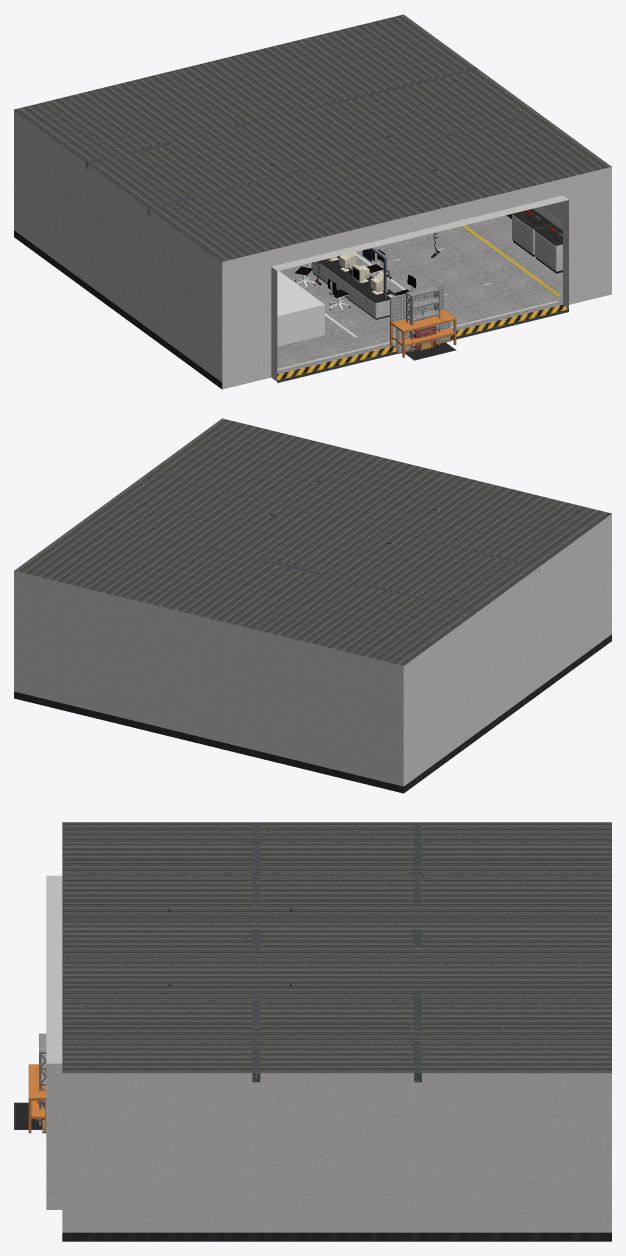
Rendered from pitbox.glb.
3 views of the same model, one above another, from view 1: azimuth 30°, elevation 25°; view 2: azimuth 150°, elevation 25°; view 3: azimuth 270°, elevation 25° (orthographic). The views are drawn at different scales.
Visible parts, largest first — view 1: REF_corrugated_metal, REF_plaster_wall, REF_industrial_concrete_floor, REF_plain, REF_your_car, eng_cabinets, REF_dark_industrial_metal, REF_hazard_stripes_01, floor_markings, REF_spare_bench_tall, tool_chest_1, tool_chest_2 (+2 smaller); view 2: REF_corrugated_metal, REF_plaster_wall, REF_dark_industrial_metal, REF_plain; view 3: REF_corrugated_metal, REF_plaster_wall, REF_dark_industrial_metal, REF_plain, REF_spare_bench.
Boxes of the visible parts, box(x1,y1,x2,y2) form: REF_corrugated_metal: box(14, 14, 611, 261); REF_plaster_wall: box(14, 110, 611, 389); REF_industrial_concrete_floor: box(277, 215, 562, 374); REF_plain: box(86, 67, 568, 382); REF_your_car: box(277, 271, 324, 346); eng_cabinets: box(311, 255, 397, 319); REF_dark_industrial_metal: box(14, 214, 511, 389); REF_hazard_stripes_01: box(277, 305, 568, 380); floor_markings: box(277, 232, 558, 370); REF_spare_bench_tall: box(390, 284, 454, 346); tool_chest_1: box(534, 224, 562, 273); tool_chest_2: box(512, 209, 552, 256); REF_corrugated_metal: box(14, 418, 611, 665); REF_plaster_wall: box(14, 514, 611, 786); REF_dark_industrial_metal: box(14, 634, 611, 793); REF_plain: box(148, 471, 539, 613); REF_corrugated_metal: box(62, 822, 611, 1073); REF_plaster_wall: box(46, 875, 611, 1232); REF_dark_industrial_metal: box(62, 1232, 611, 1241); REF_plain: box(252, 822, 421, 1082); REF_spare_bench: box(28, 1064, 46, 1133).
Bounding box in the file's own units: 14.7 × 4.65 × 14.8.
117 materials, 67 textured.
